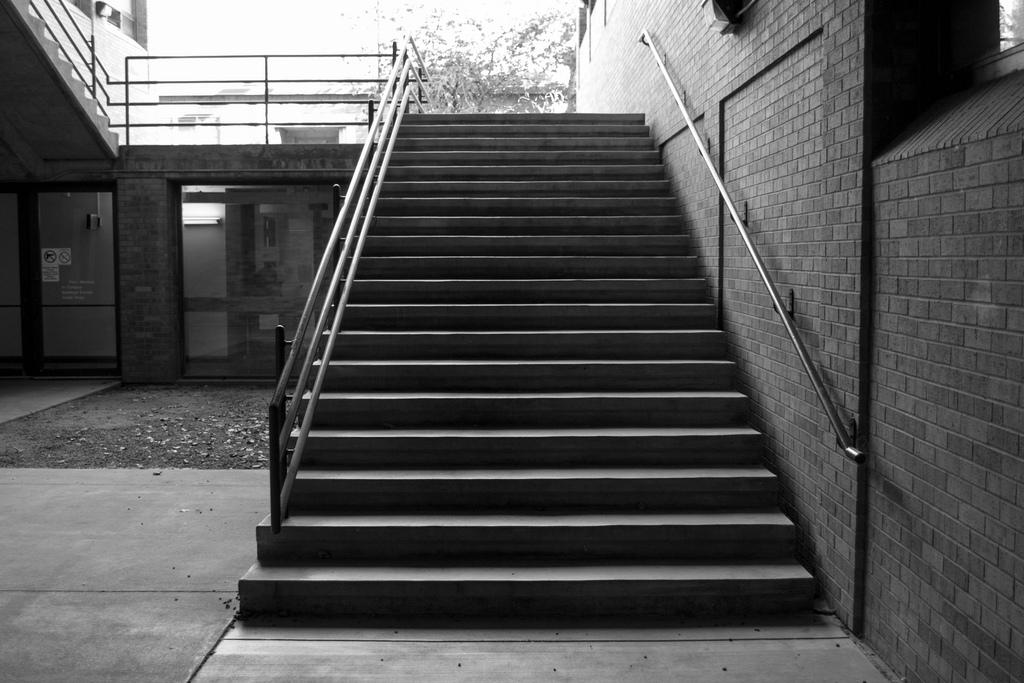stairs: (254, 115, 813, 618)
